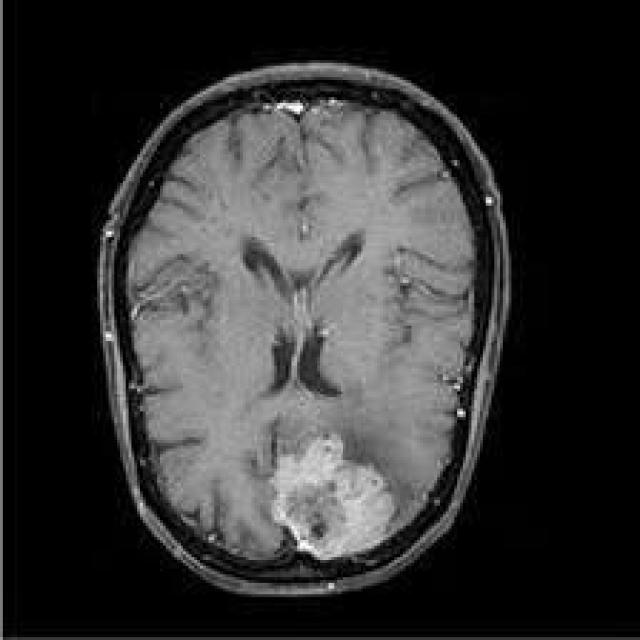meningioma_tumor: (260, 421, 407, 571)
